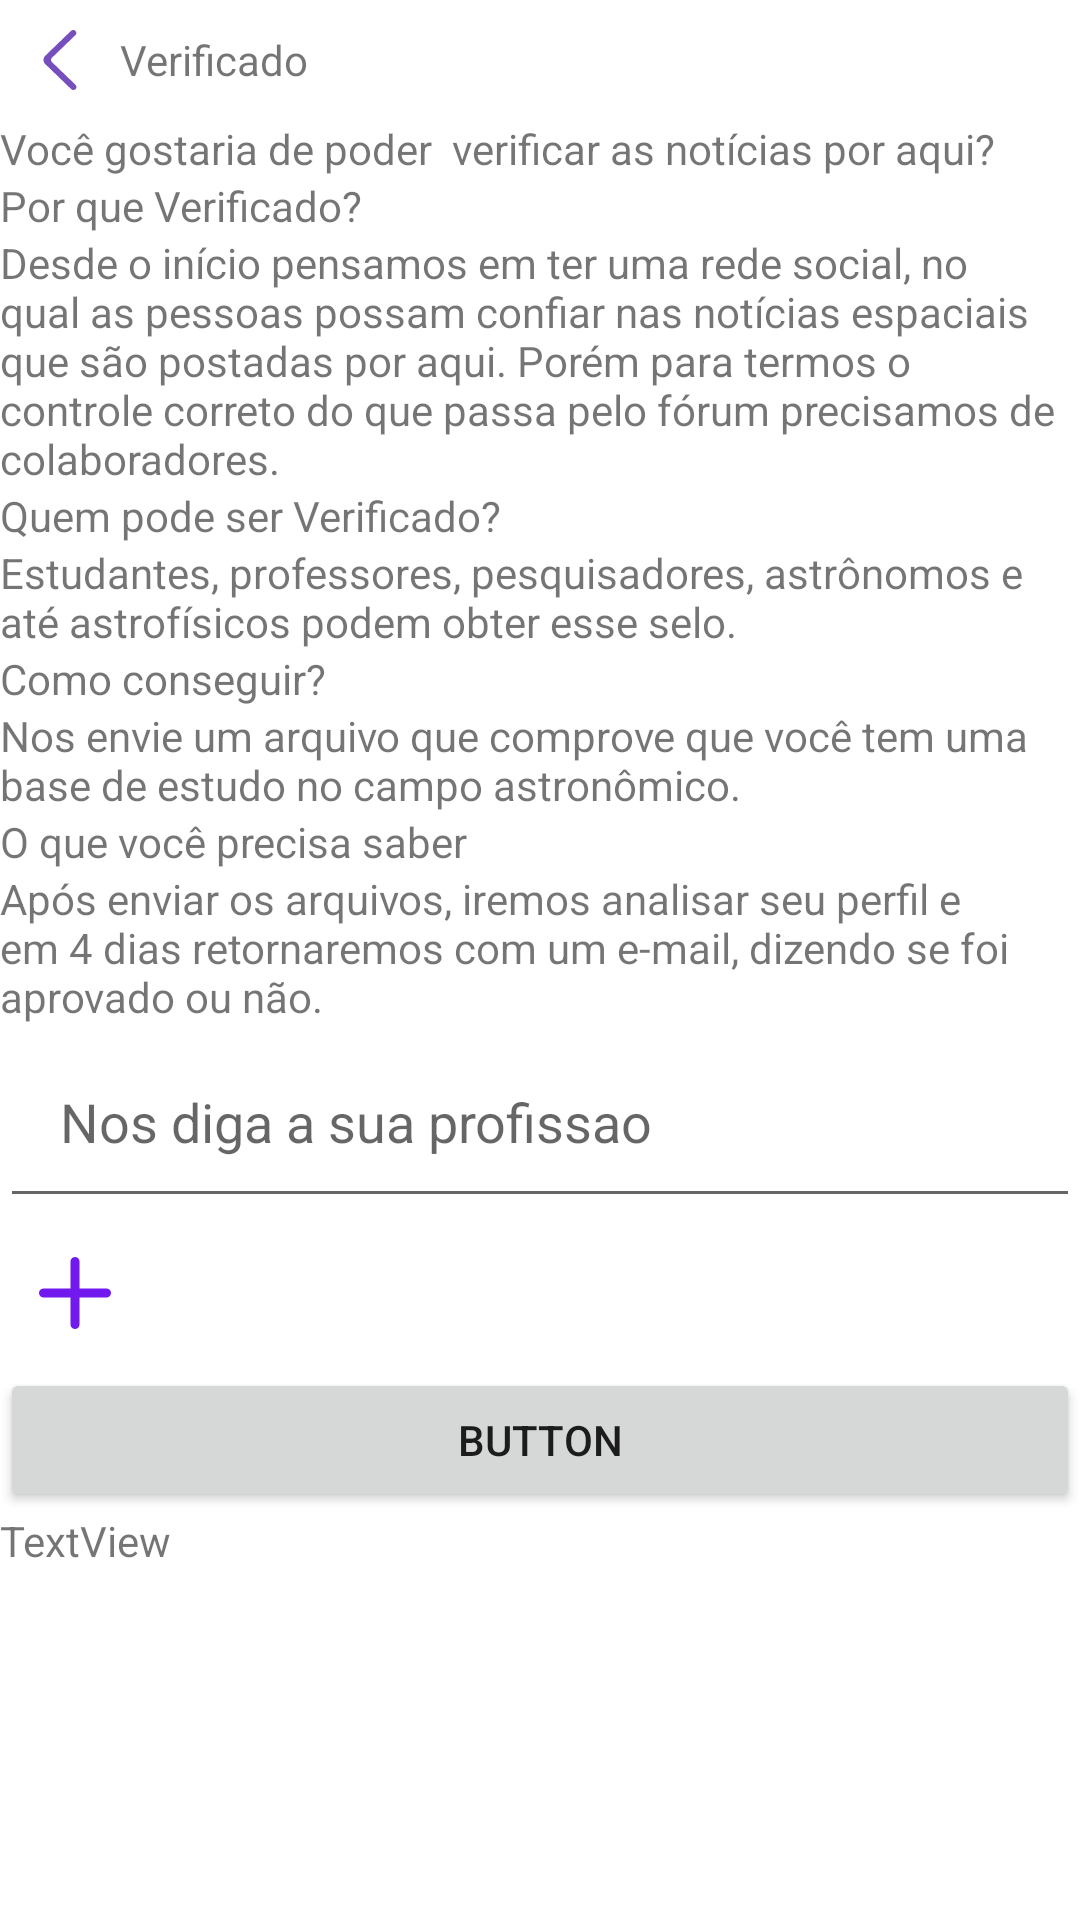

Icon bounding boxes for this 1080x1920 phone screenshot, format (x1, y1, x2, y2):
mais: (39, 1257, 111, 1329)
voltar: (43, 30, 77, 90)
